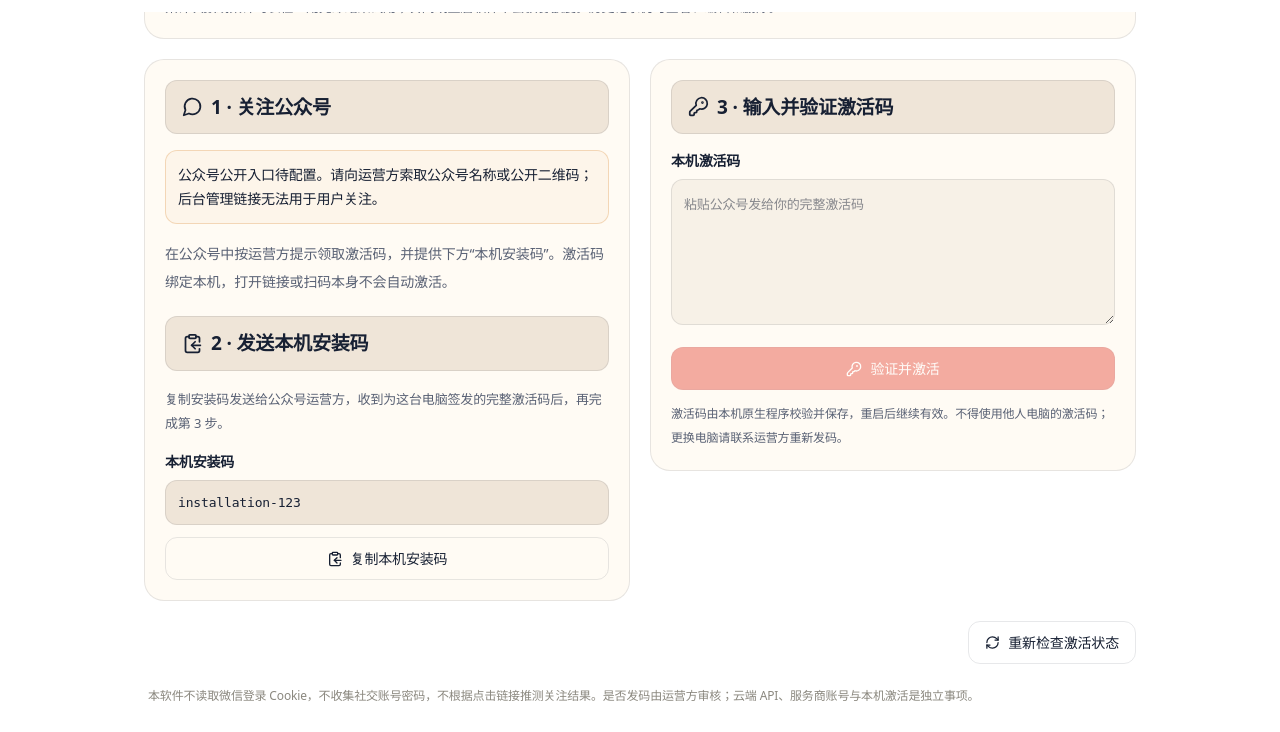
Test case: active account route is native activation › activates only after native verification and removes the code input after success
(page scrolled)
Check: the field showing "installation-123" is shown, box [165, 480, 609, 525]
In the text box labelled "本机激活码": (893, 252) [671, 179, 1115, 325], type "signed-license-code"
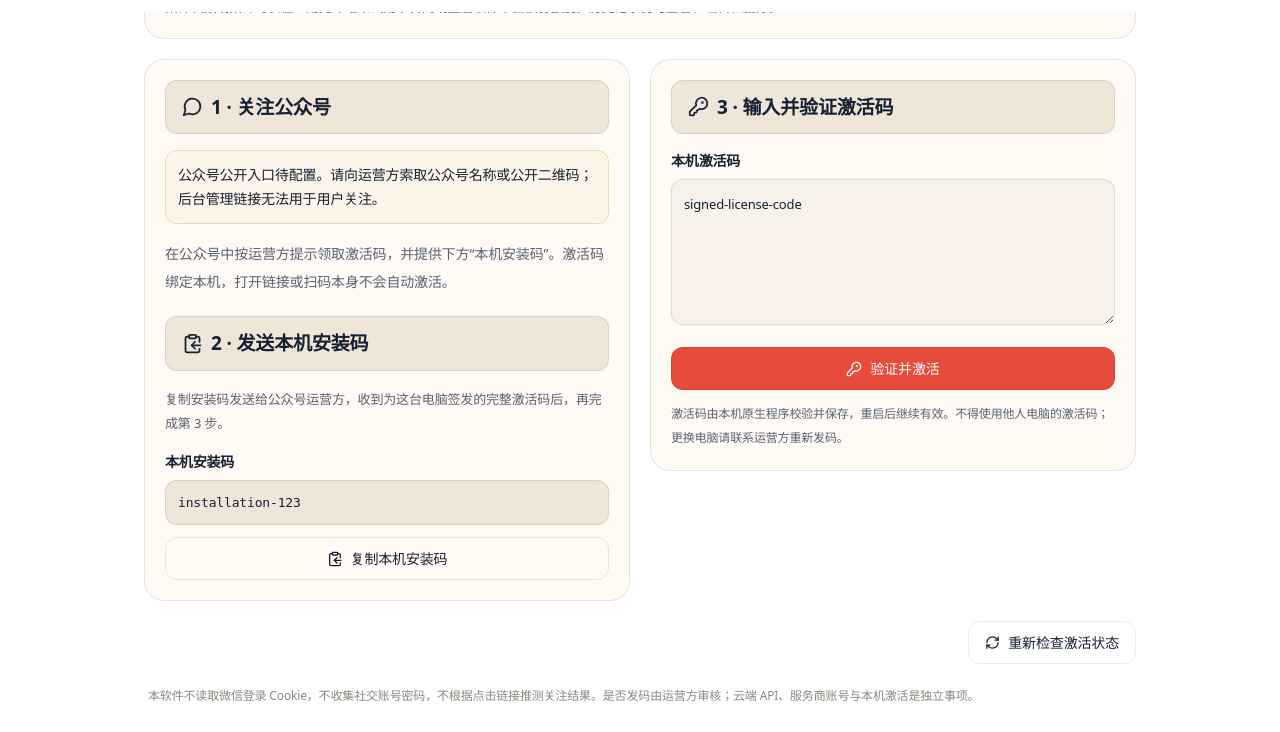
Click the button "验证并激活": click(893, 368) [671, 347, 1115, 390]
(page scrolled)
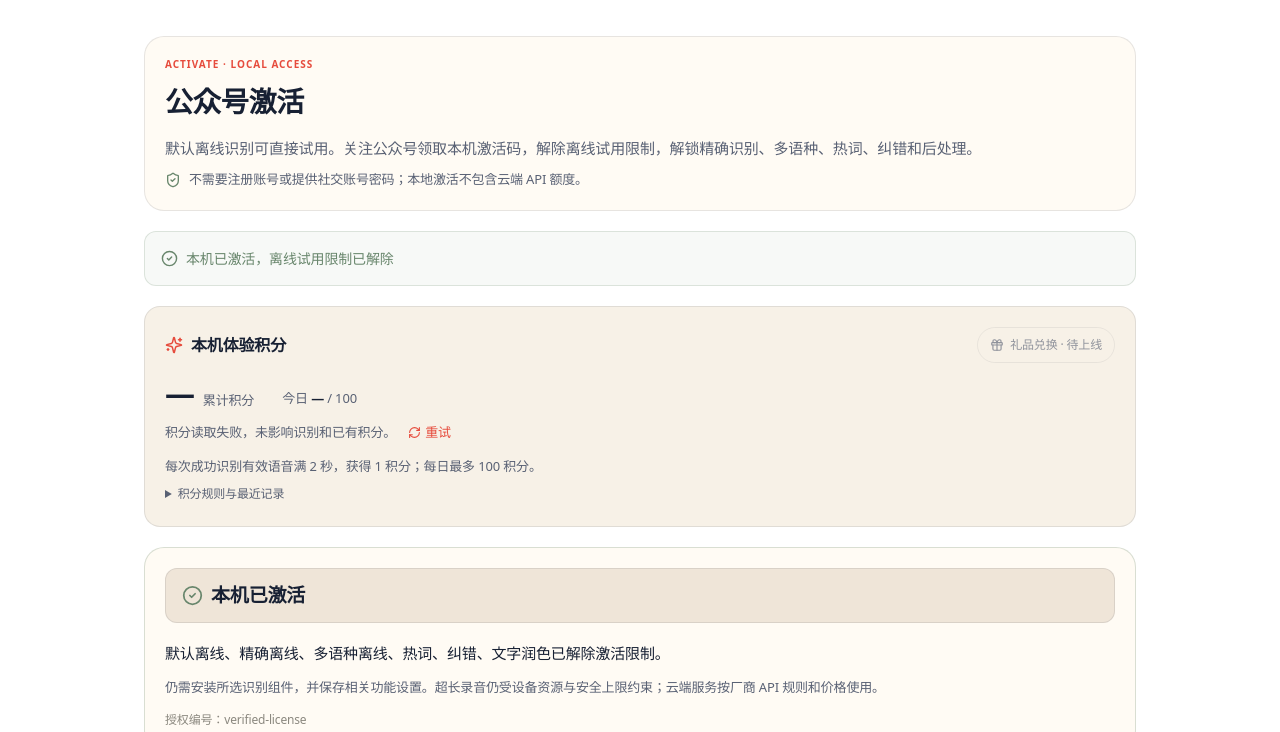
Check: the heading "本机已激活" is shown, box [165, 568, 1115, 622]
Check: the text "不需要注册账号或提供社交账号密码；本地激活不包含云端 API 额度。" is shown, box [165, 170, 588, 188]
